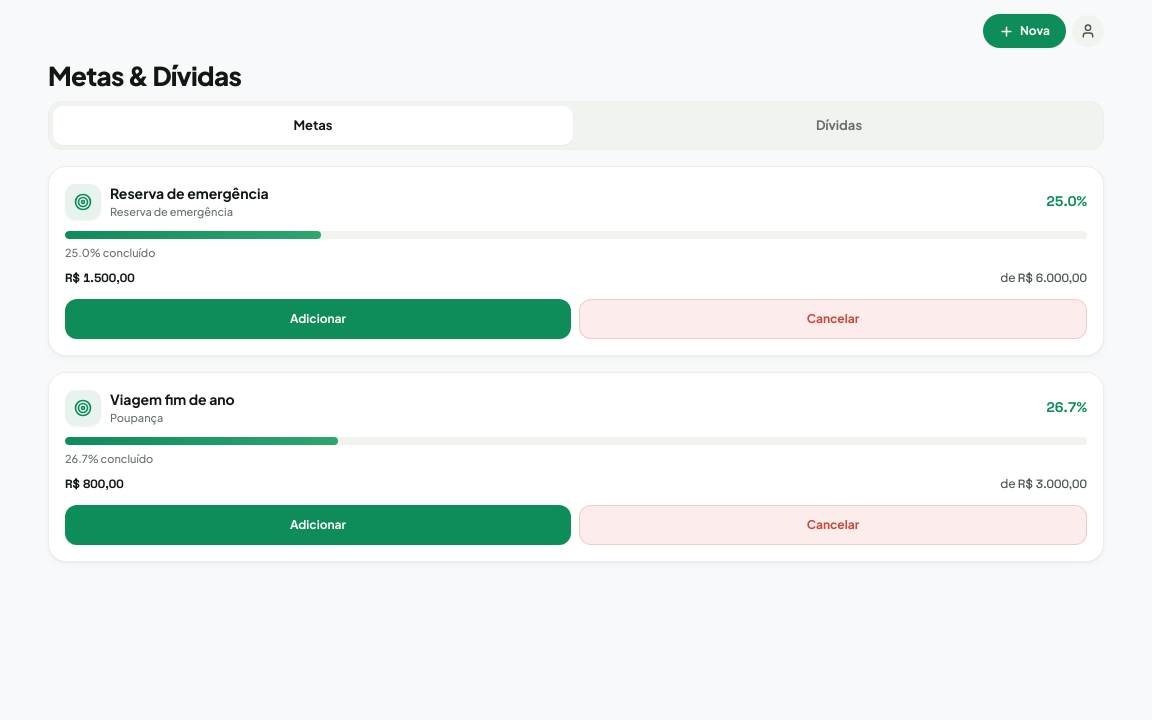
Test: GoalsPage › dead CTA signals › opens new goal form when Nova is clicked (chooser then meta)
The image size is (1152, 720).
Click the button "Nova" at (1024, 31), box [983, 14, 1066, 48]
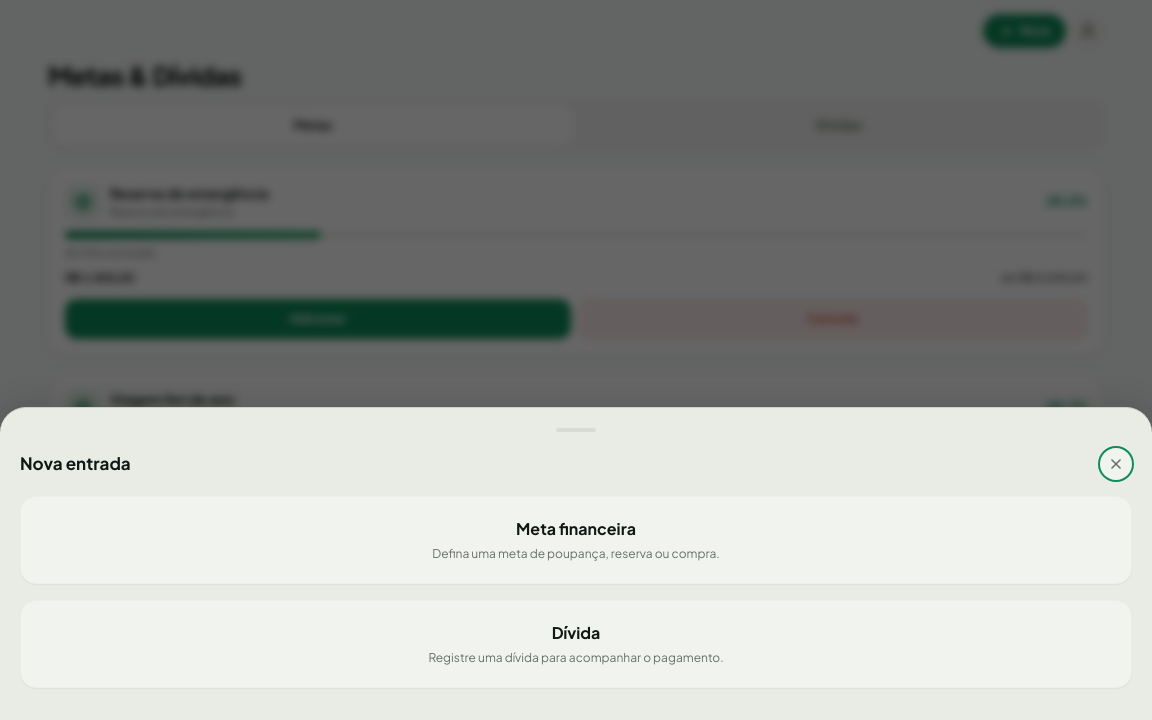
Click the text "Meta financeira" at (576, 528), box [516, 518, 636, 539]
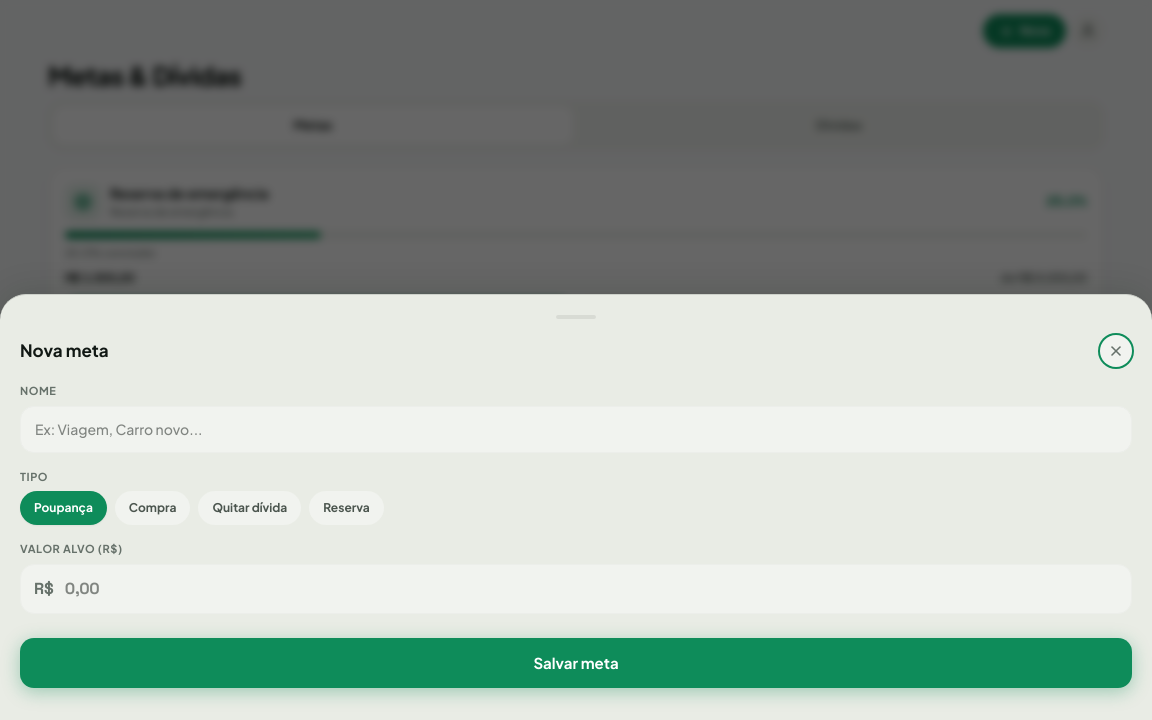
Result: the heading "Nova meta" is shown at [20, 339, 109, 361]
Result: the button "Salvar meta" is shown at [20, 638, 1132, 688]
